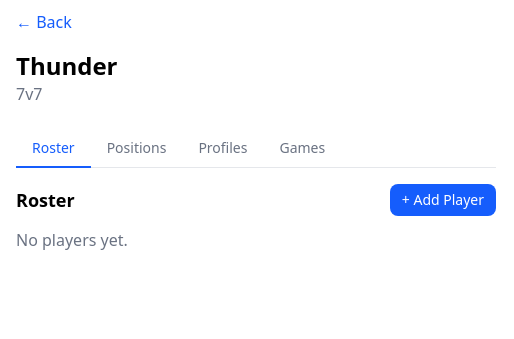
Test: TeamDetail › adds a player via inline form
Click the button "+ Add Player" at (443, 200), box [390,184,496,216]
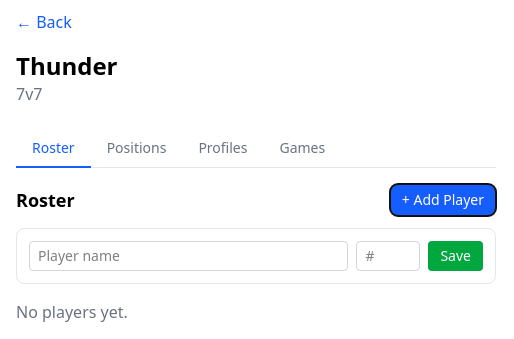
Type "Sam" into the field with placeholder "Player name" at (189, 256), box [29,241,348,271]
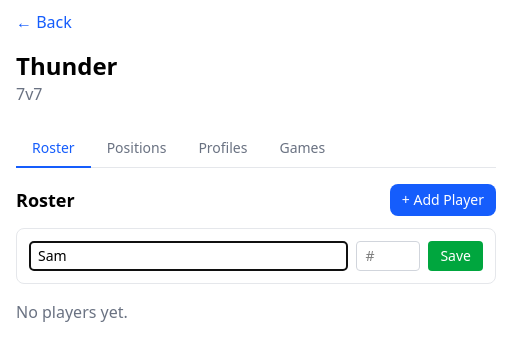
Click the button "Save" at (456, 256), box [428,241,483,271]
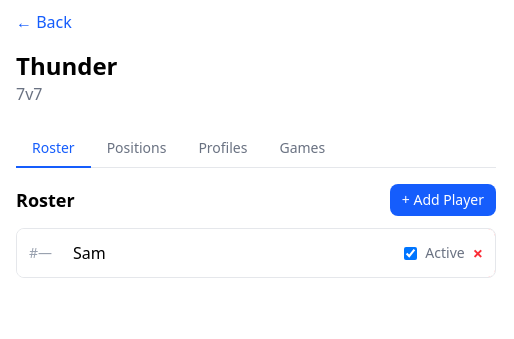
expect the text "Sam" is shown: met, box [73,241,106,265]
